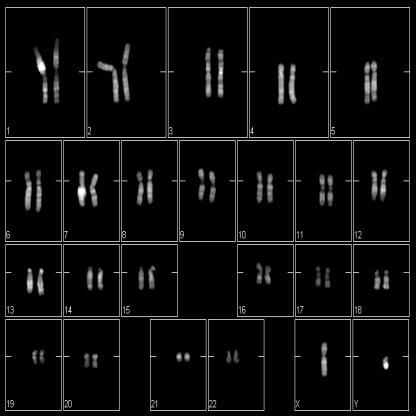1: (30, 43, 50, 108), (50, 34, 66, 106)
10: (264, 164, 276, 206), (253, 166, 265, 207)
11: (316, 170, 328, 211), (326, 169, 336, 210)
12: (378, 166, 390, 208), (368, 166, 379, 207)
13: (35, 262, 46, 298), (24, 264, 35, 298)
14: (84, 262, 96, 294), (96, 262, 106, 294)
15: (146, 262, 158, 292), (136, 262, 147, 292)
16: (252, 258, 264, 290), (263, 258, 275, 290)
17: (323, 259, 332, 291), (314, 260, 322, 292)
18: (382, 264, 394, 296), (372, 266, 382, 297)
19: (38, 344, 48, 370), (31, 344, 39, 370)
2: (93, 53, 120, 108), (120, 39, 135, 109)
20: (82, 347, 90, 372), (92, 347, 100, 372)
21: (175, 346, 183, 366), (184, 346, 192, 366)
22: (234, 344, 242, 369), (225, 344, 233, 368)
3: (214, 43, 226, 103), (203, 43, 214, 103)
4: (274, 57, 288, 107), (286, 58, 300, 108)
5: (363, 58, 371, 110), (370, 58, 378, 110)
6: (22, 166, 34, 216), (32, 166, 43, 216)
7: (75, 166, 88, 210), (87, 165, 100, 209)
8: (134, 165, 144, 209), (144, 164, 154, 208)
9: (194, 165, 206, 204), (206, 165, 218, 204)
X: (317, 337, 332, 380)
Y: (381, 349, 390, 375)
